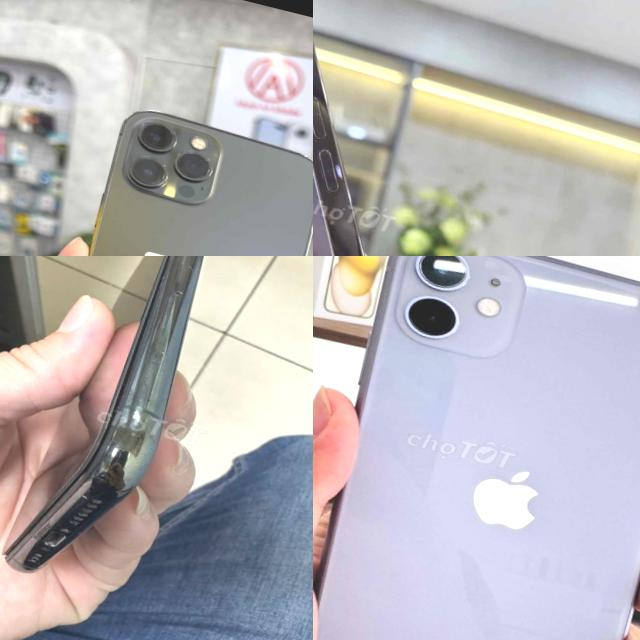gen_11: (313, 256, 640, 640), (0, 256, 251, 585)
gen_12_13: (34, 98, 313, 256)
gen_14: (313, 0, 563, 256)
